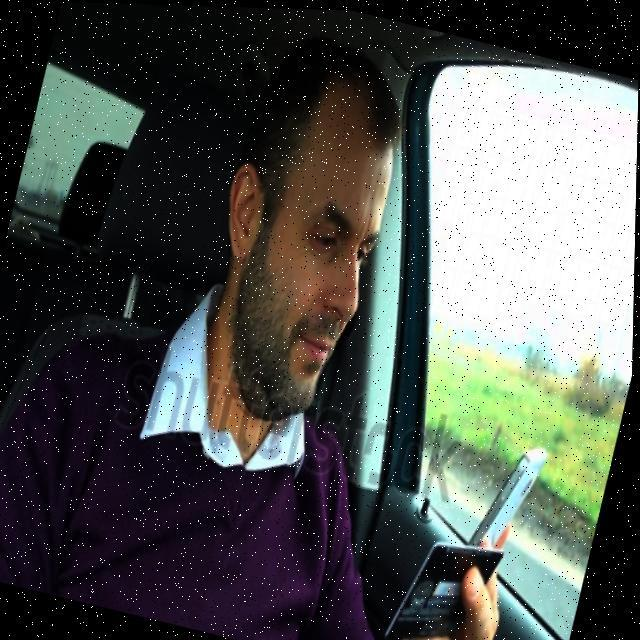PhoneCall: (466, 432, 550, 558)
